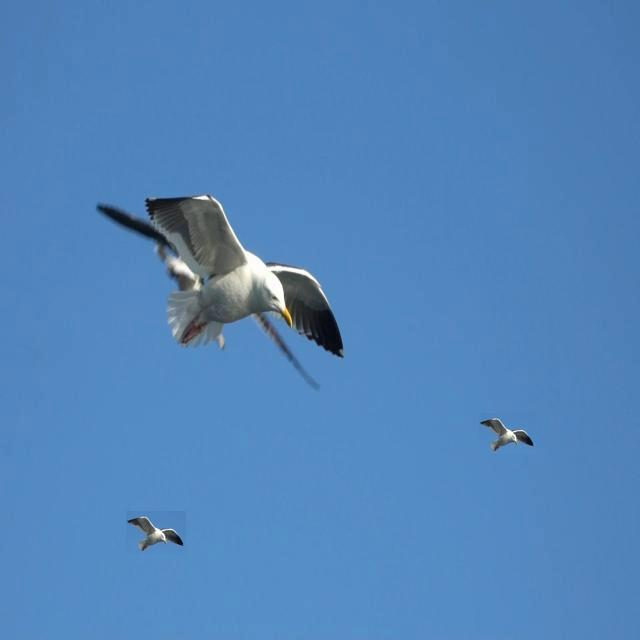bird: (94, 202, 325, 392), (142, 193, 350, 363), (127, 517, 184, 552), (482, 419, 535, 453)
